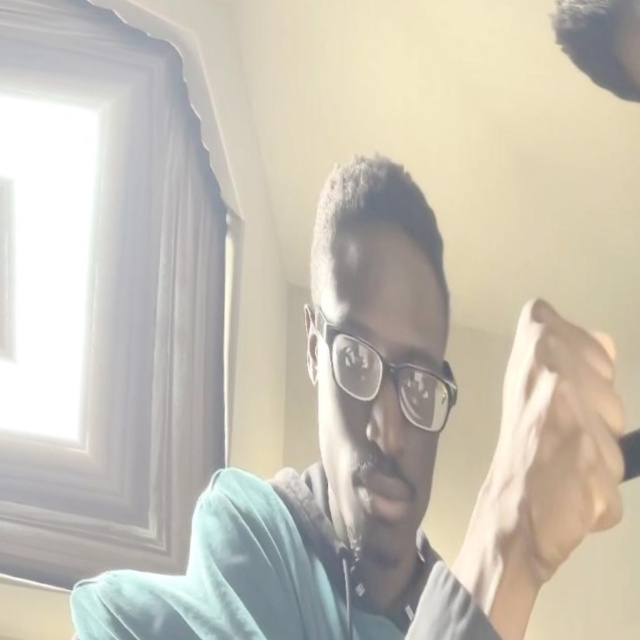Rock: (365, 238, 640, 640)
